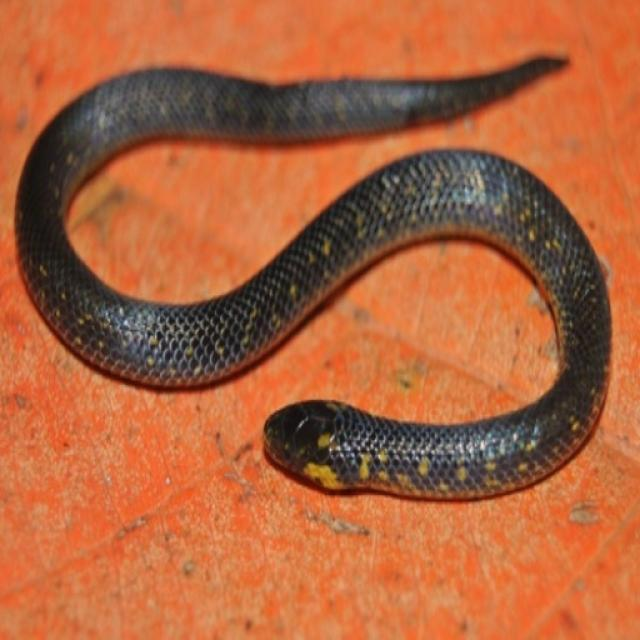snake: (10, 48, 634, 526)
